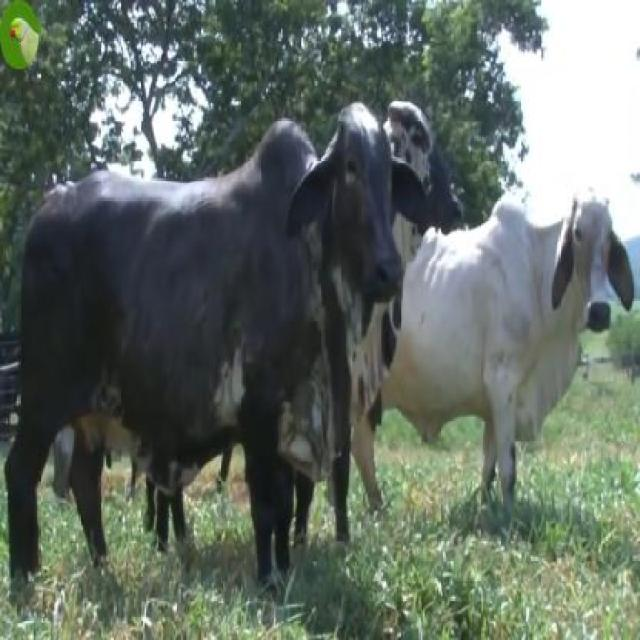Cow: (9, 96, 402, 606), (402, 194, 636, 538)
